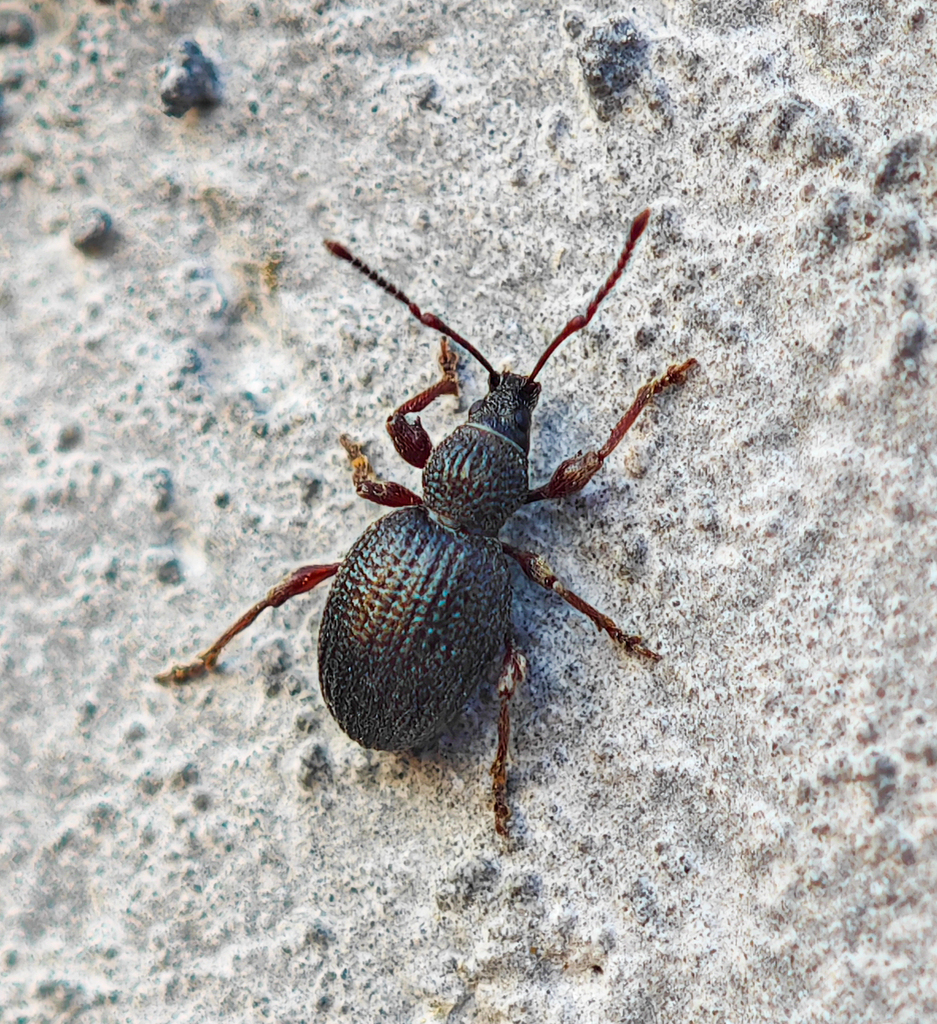weevils: (122, 106, 806, 834)
